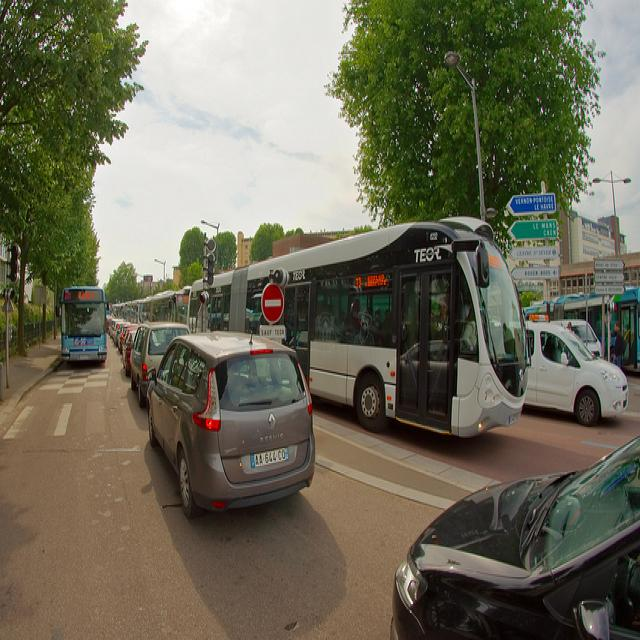Vehicle: (228, 211, 534, 438), (388, 436, 638, 640), (142, 330, 316, 525), (522, 320, 630, 426), (522, 286, 640, 370), (129, 321, 192, 409), (61, 286, 107, 366), (150, 286, 191, 324), (562, 320, 602, 357), (120, 328, 138, 377), (127, 297, 152, 322), (117, 326, 139, 353), (114, 323, 129, 347), (111, 321, 130, 338), (111, 303, 124, 320), (106, 316, 113, 331)
